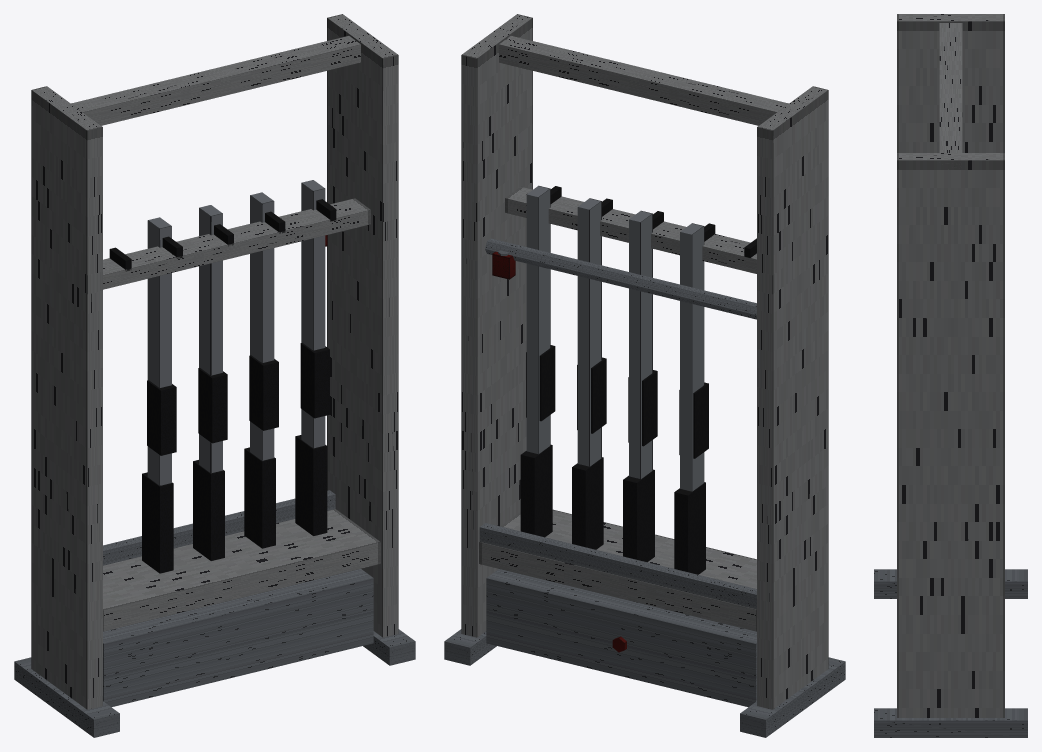
Rendered from weapons_rack_medbay_clean.glb.
3 renders of one model, left to right at view 1: azimuth 30°, elevation 25°; view 2: azimuth 150°, elevation 25°; view 3: azimuth 270°, elevation 25°, orthographic. The views are drawn at different scales.
Visible parts, largest first — view 1: weapons_rack_medbay_clean; view 2: weapons_rack_medbay_clean; view 3: weapons_rack_medbay_clean.
Part boxes in pixels (x1,y1,x2,y2): weapons_rack_medbay_clean: [14, 14, 415, 737]; weapons_rack_medbay_clean: [444, 14, 845, 737]; weapons_rack_medbay_clean: [874, 14, 1027, 737].
Size of the model in its own units: 0.93 by 1.65 by 0.4.
5 materials, 5 textured.
